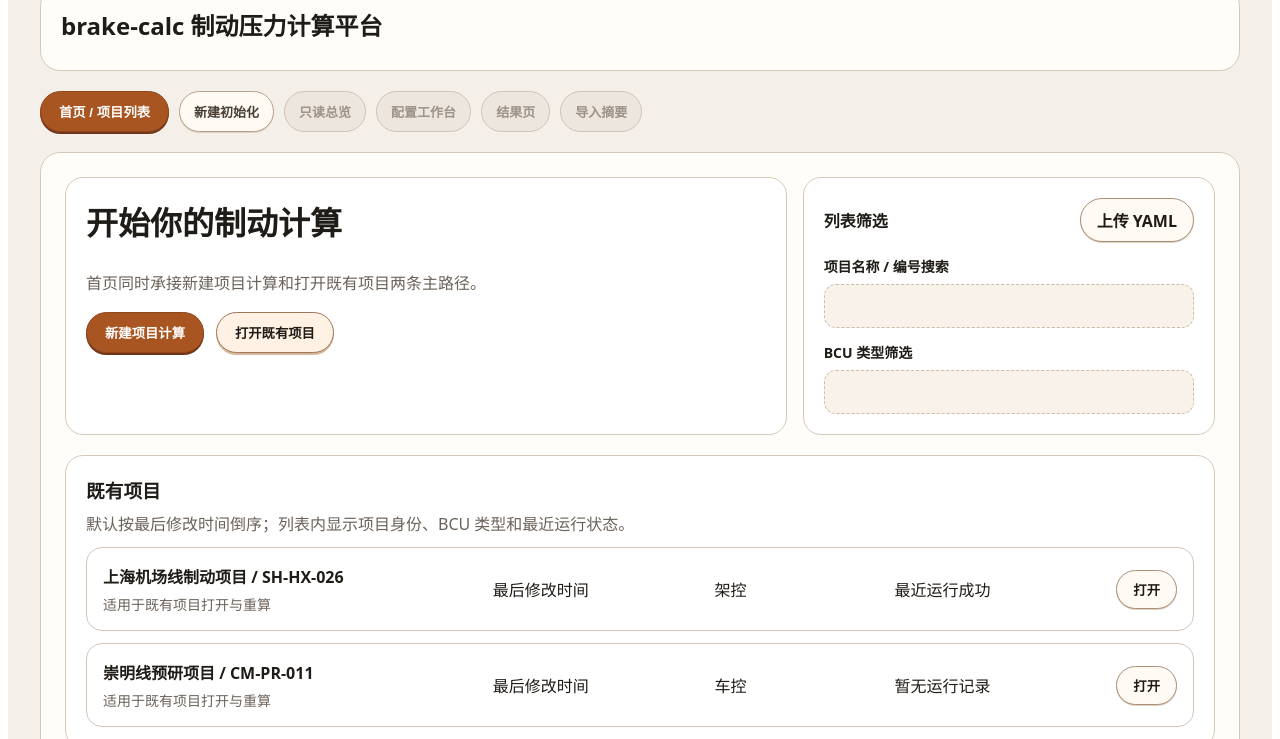
Test: App shell › emphasizes vehicle and bogie role words in load-entry labels
Click the button "首页 / 项目列表". click: point(105, 112)
box: [40, 91, 169, 132]
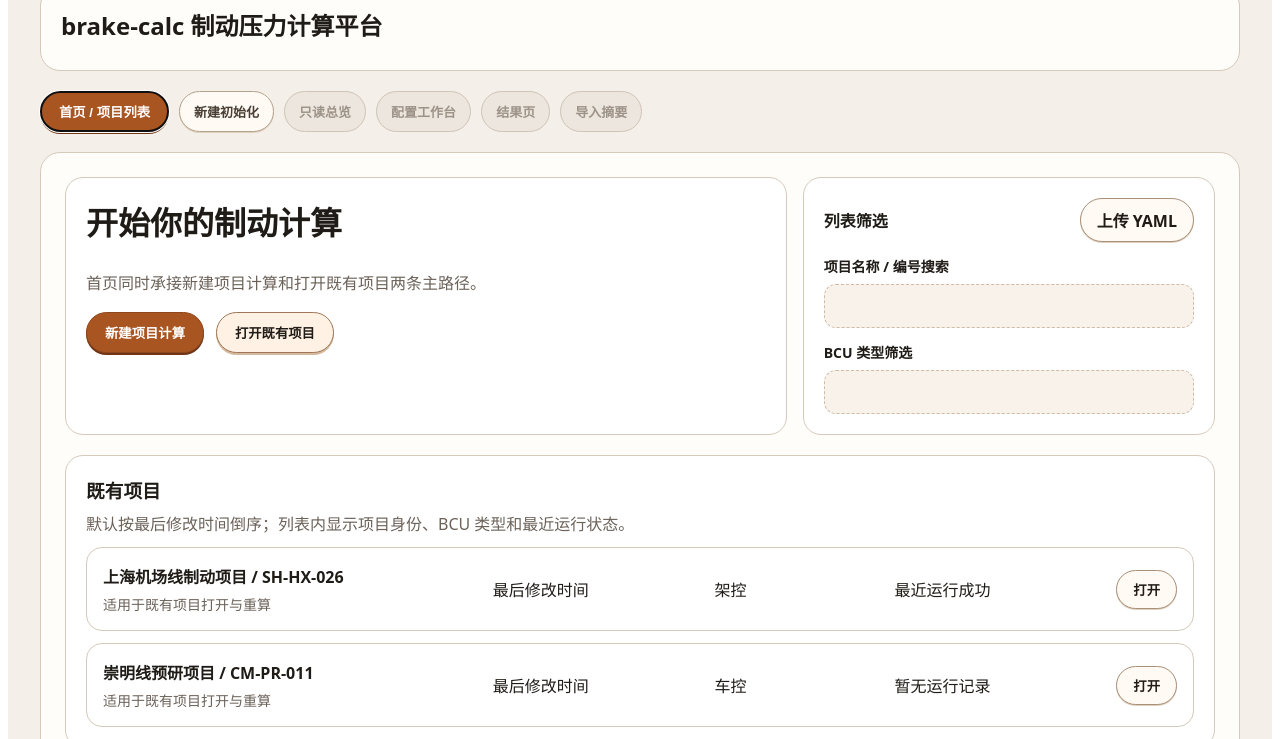
Click the button "打开既有项目". click: point(275, 333)
box: [216, 312, 334, 353]
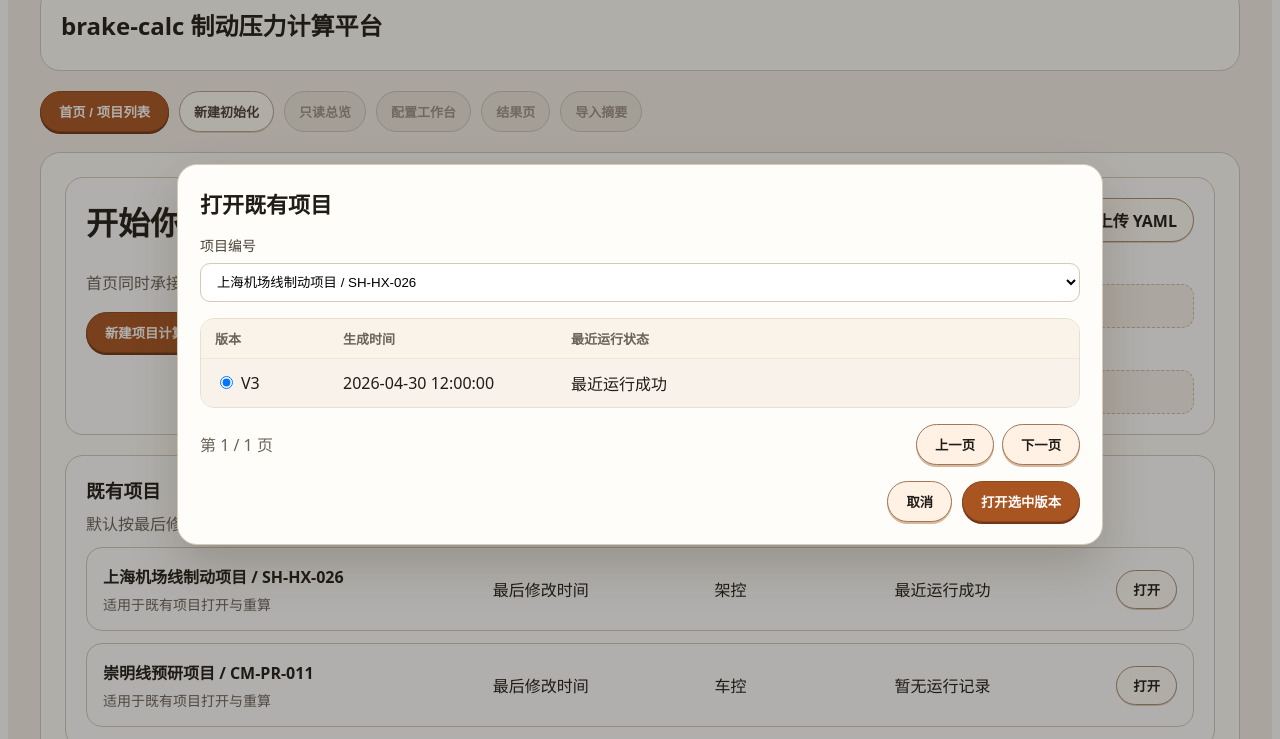
Click the button "打开选中版本". click: point(1021, 501)
box: [962, 480, 1080, 522]
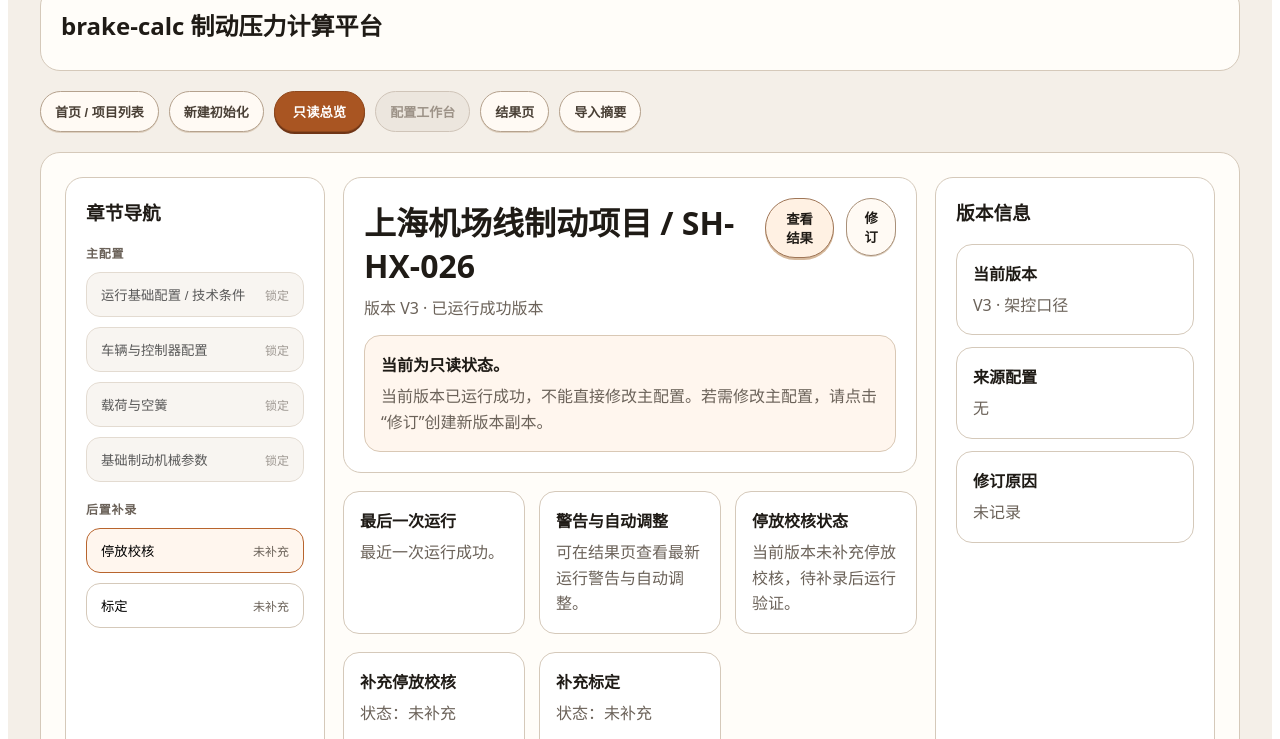
expect the button "修订" is shown: met
Click the button "修订". click: point(871, 227)
box: [846, 198, 896, 256]
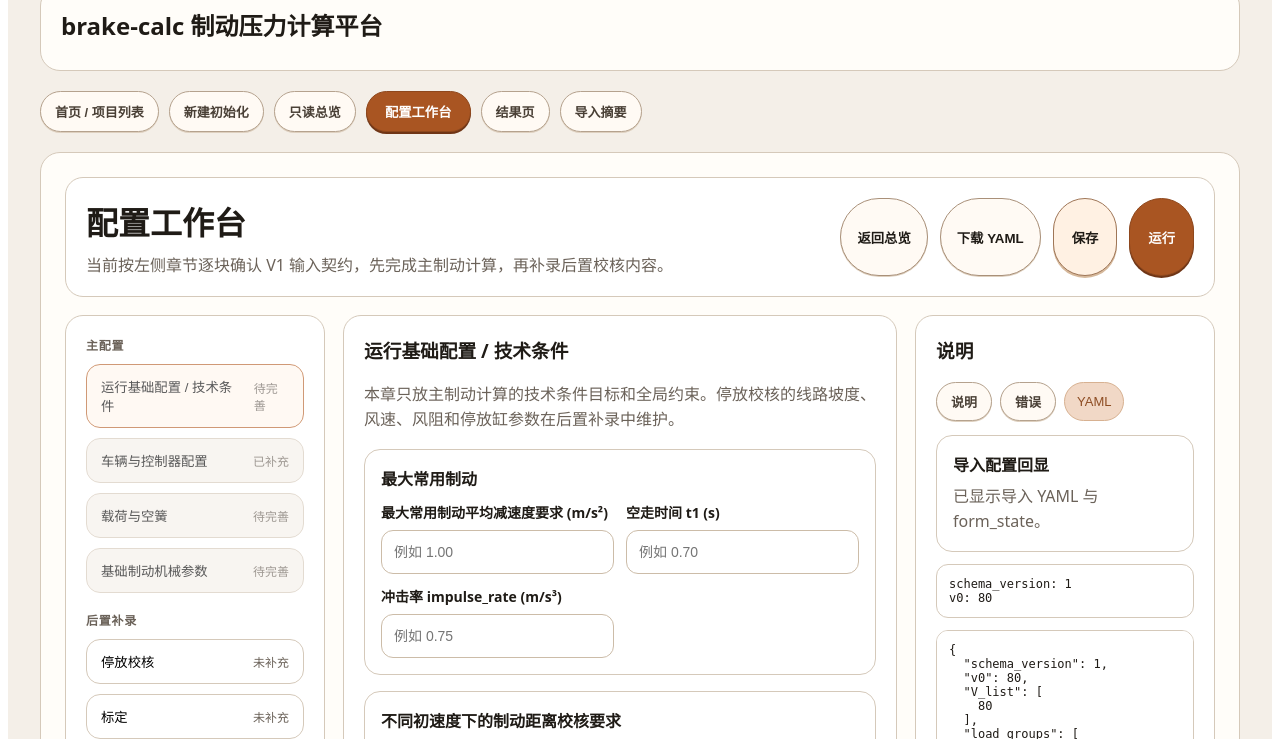
Click the button "载荷与空簧 待完善". click: point(195, 516)
box: [86, 493, 304, 538]
(page scrolled)
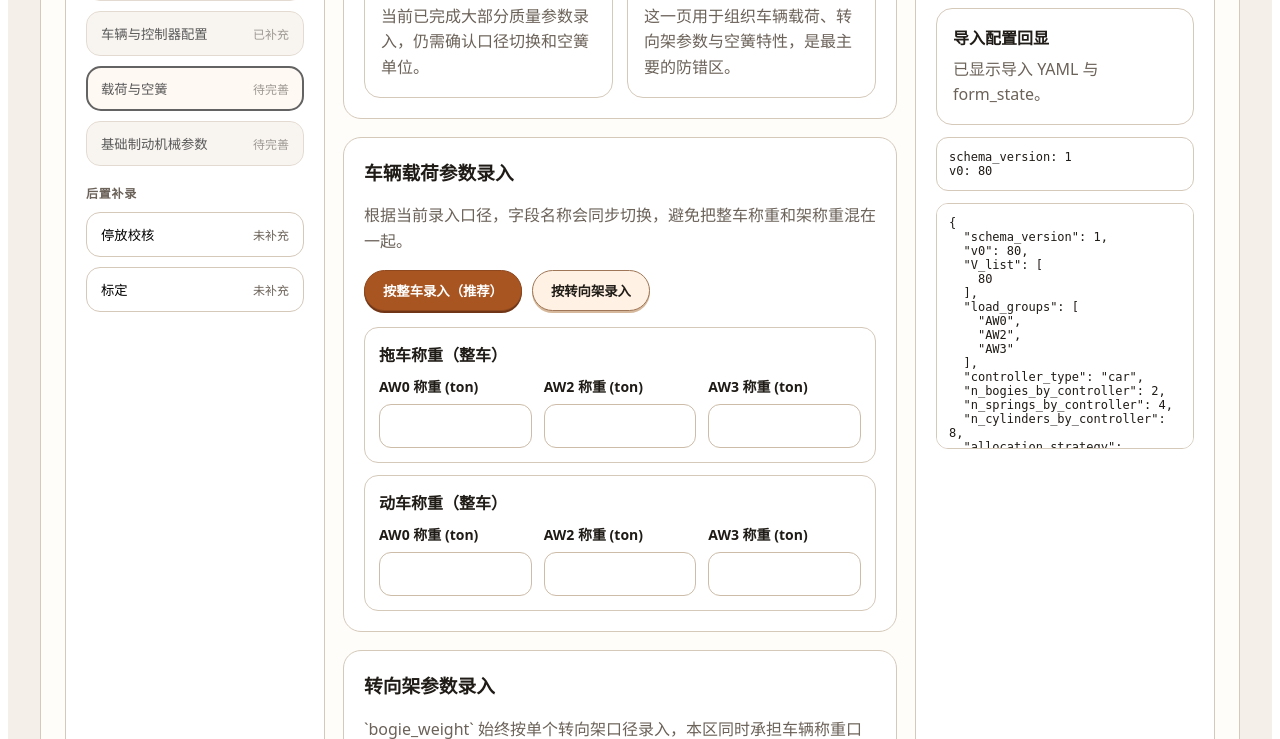
expect the heading "动车称重（整车）" is shown: met, box [379, 492, 507, 514]
expect the heading "拖车称重（整车）" is shown: met, box [379, 344, 507, 366]
